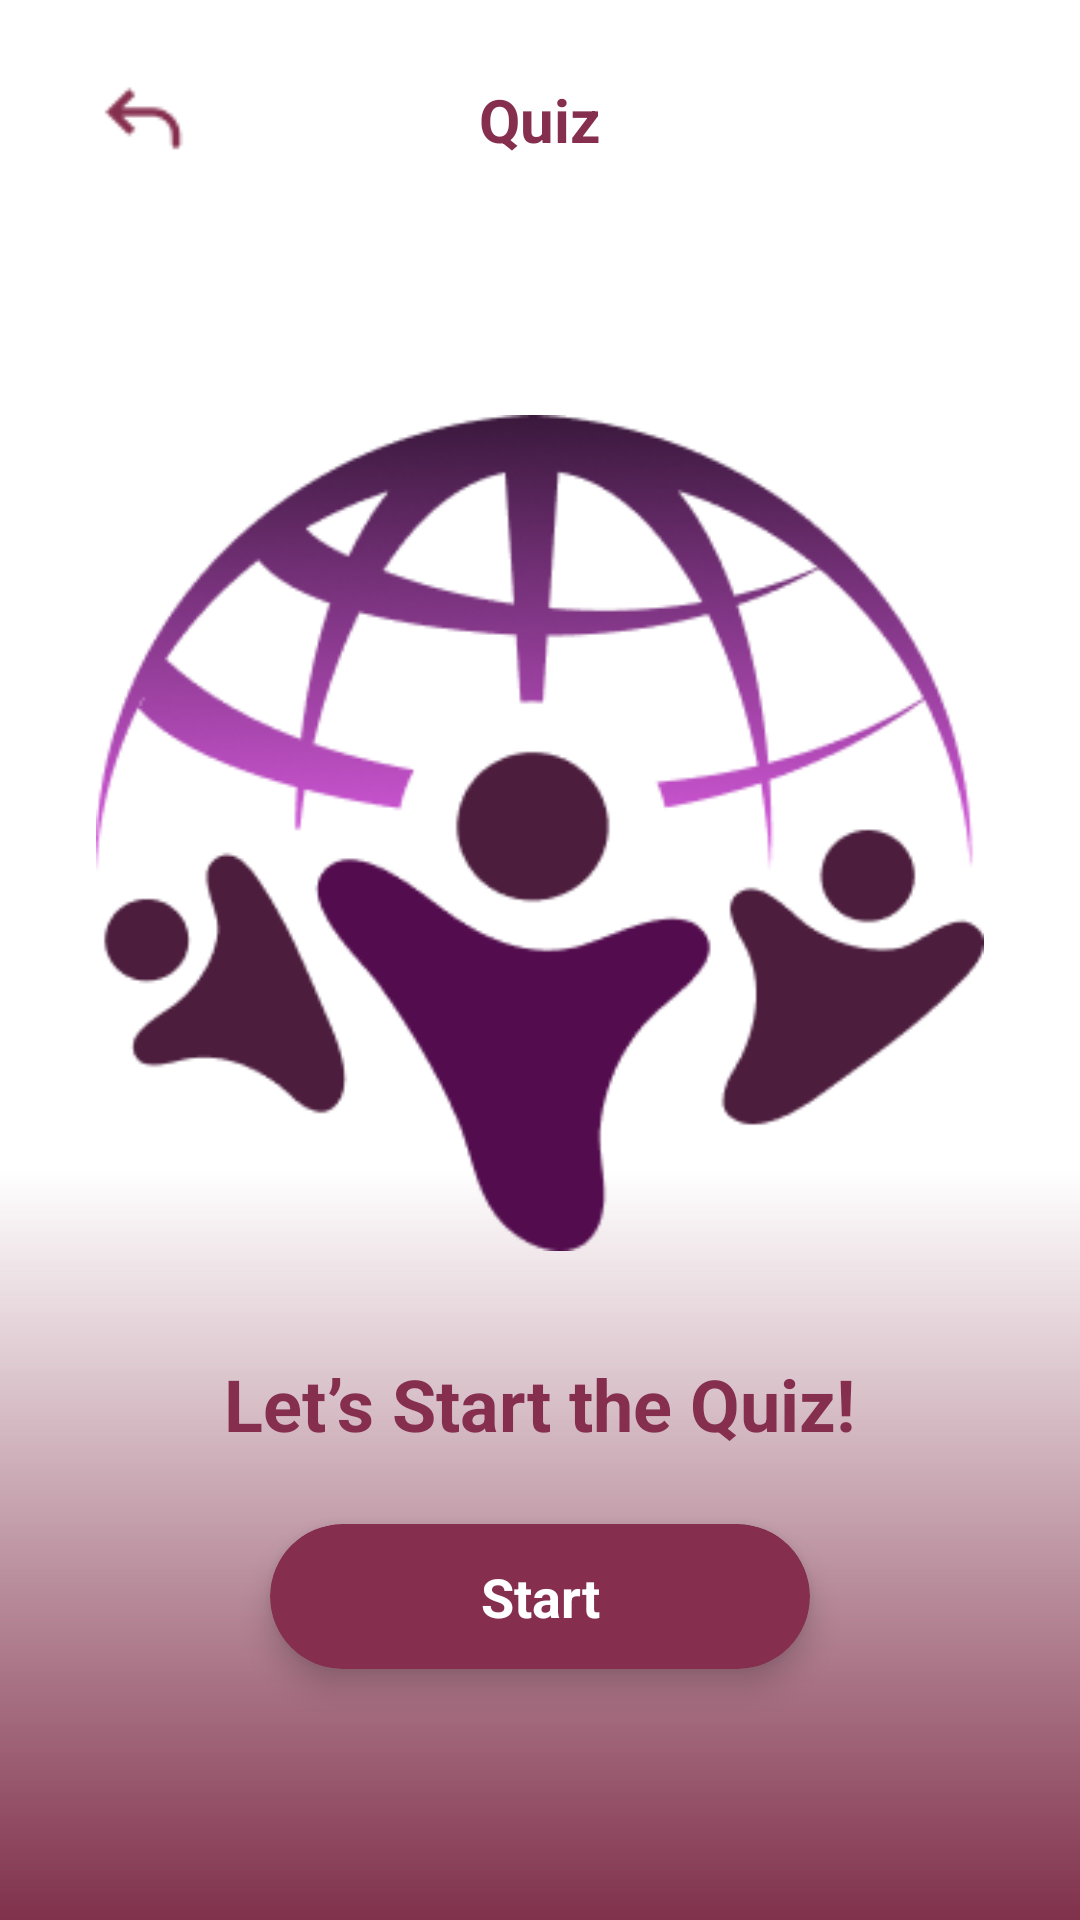

Icons on this 1080*1920 Android screen, each with its box as (x1, y1, x2, y2):
back: (105, 87, 183, 150)
